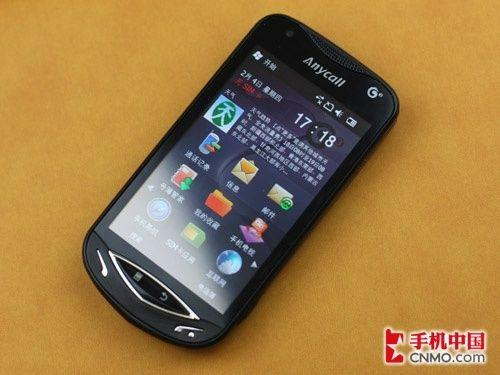phone: (88, 14, 400, 342)
